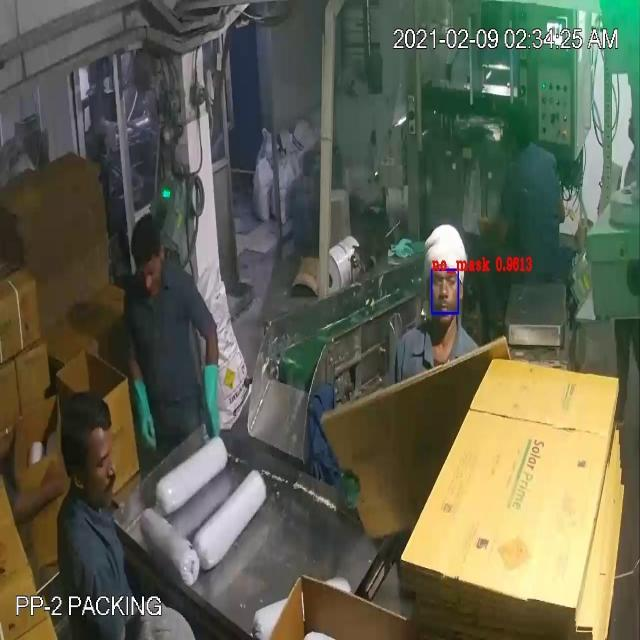No_Gloves: (38, 88, 210, 483)
